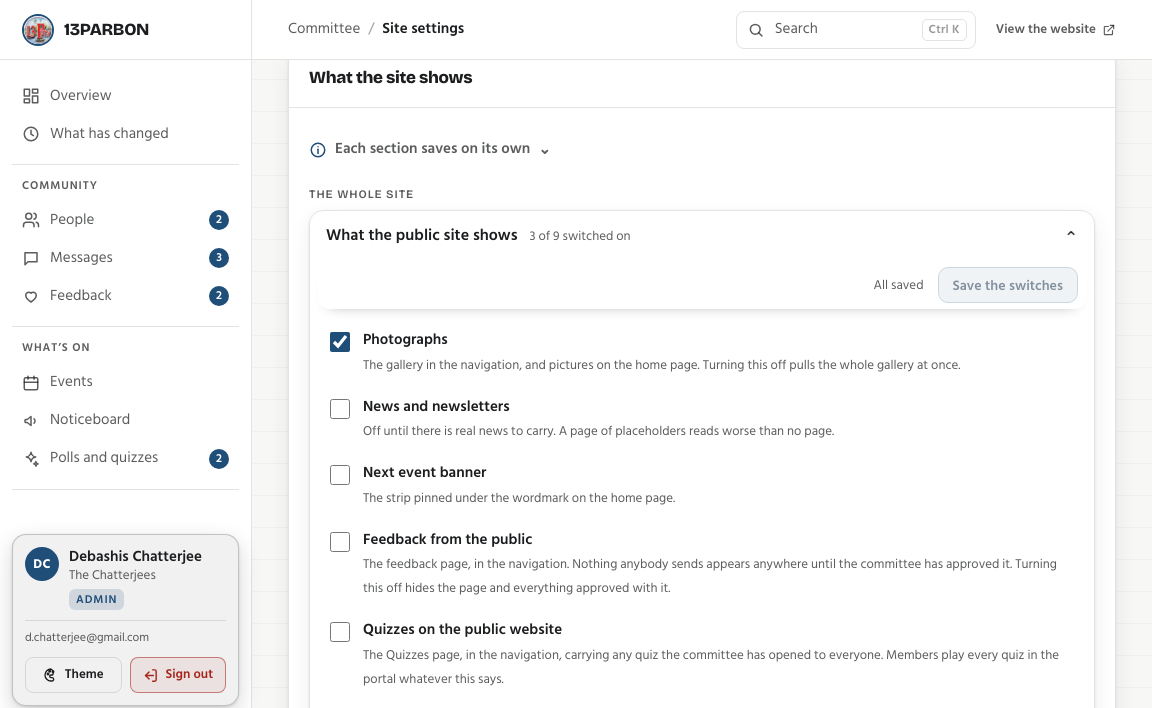
Test case: what throwing a switch changes › puts News into the navigation for everybody
(page scrolled)
Check: the button "Save the switches" is shown, box [938,267,1078,303]
Click the checkbox labelled "News and newsletters": coordinates (340, 409) [330,399,350,419]
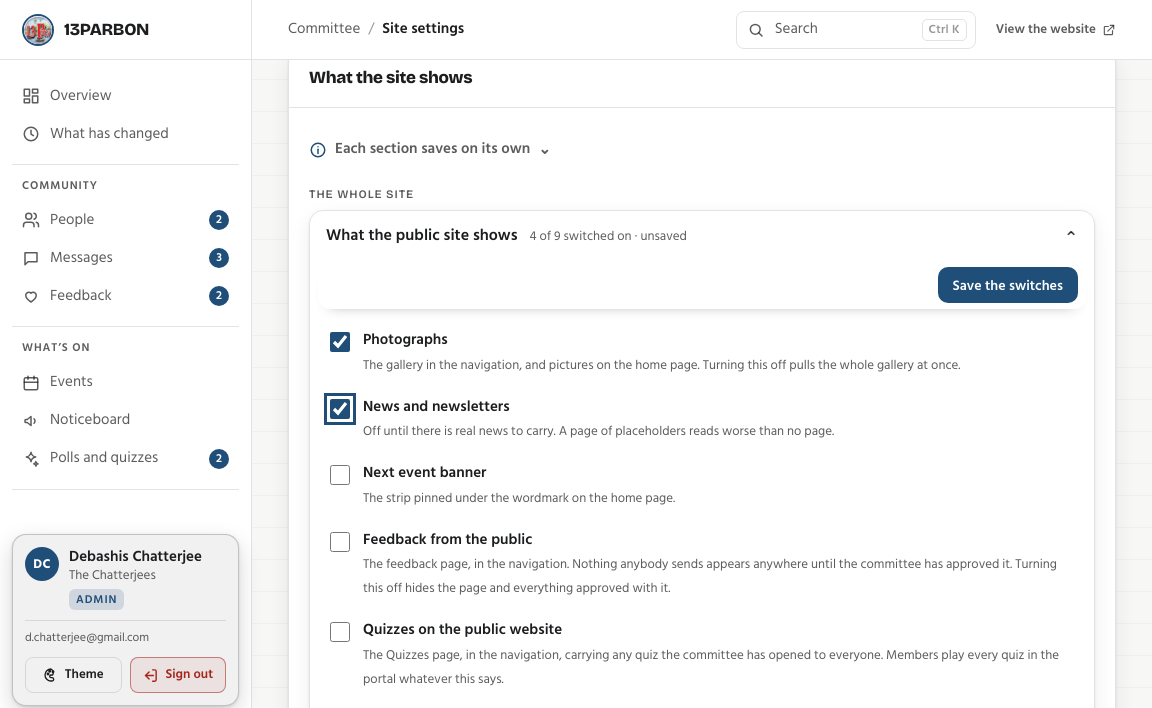
Click the button "Save the switches": coordinates (1008, 285) [938,267,1078,303]
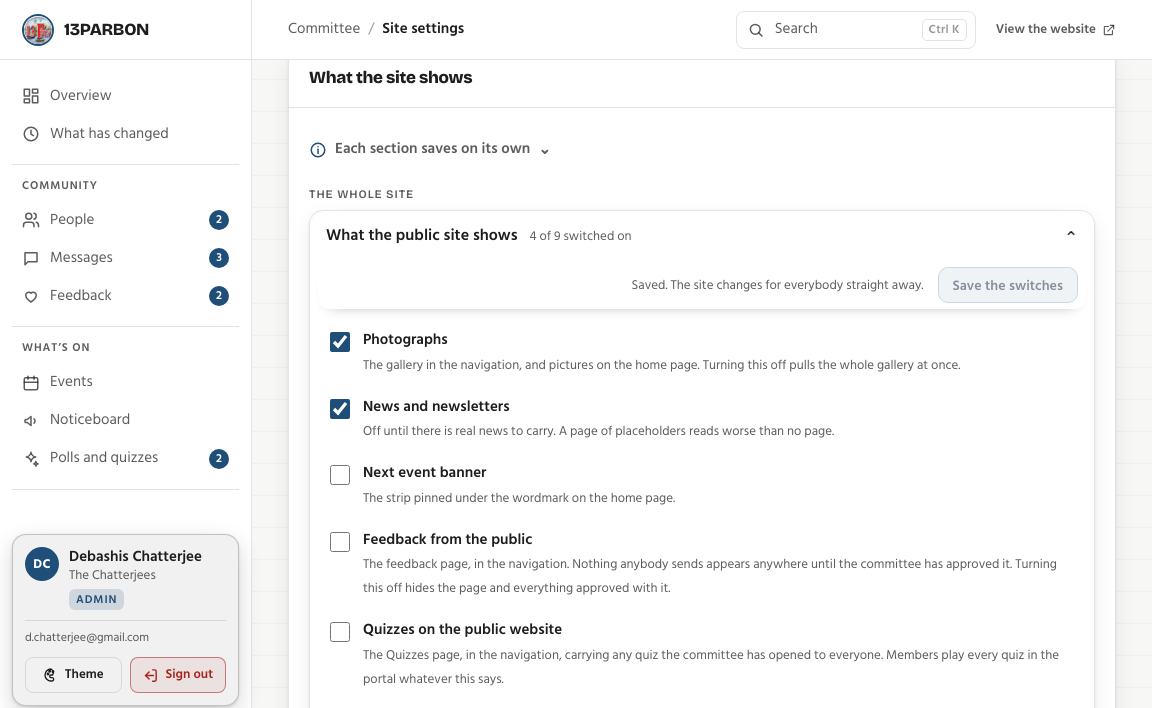
Check: the message shows "Saved.", box [632,274,924,296]
